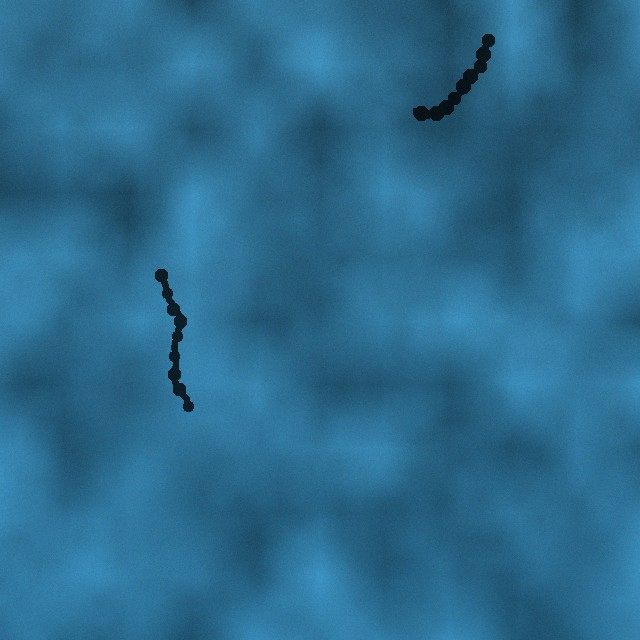crack: (407, 33, 495, 122), (155, 269, 195, 413)
